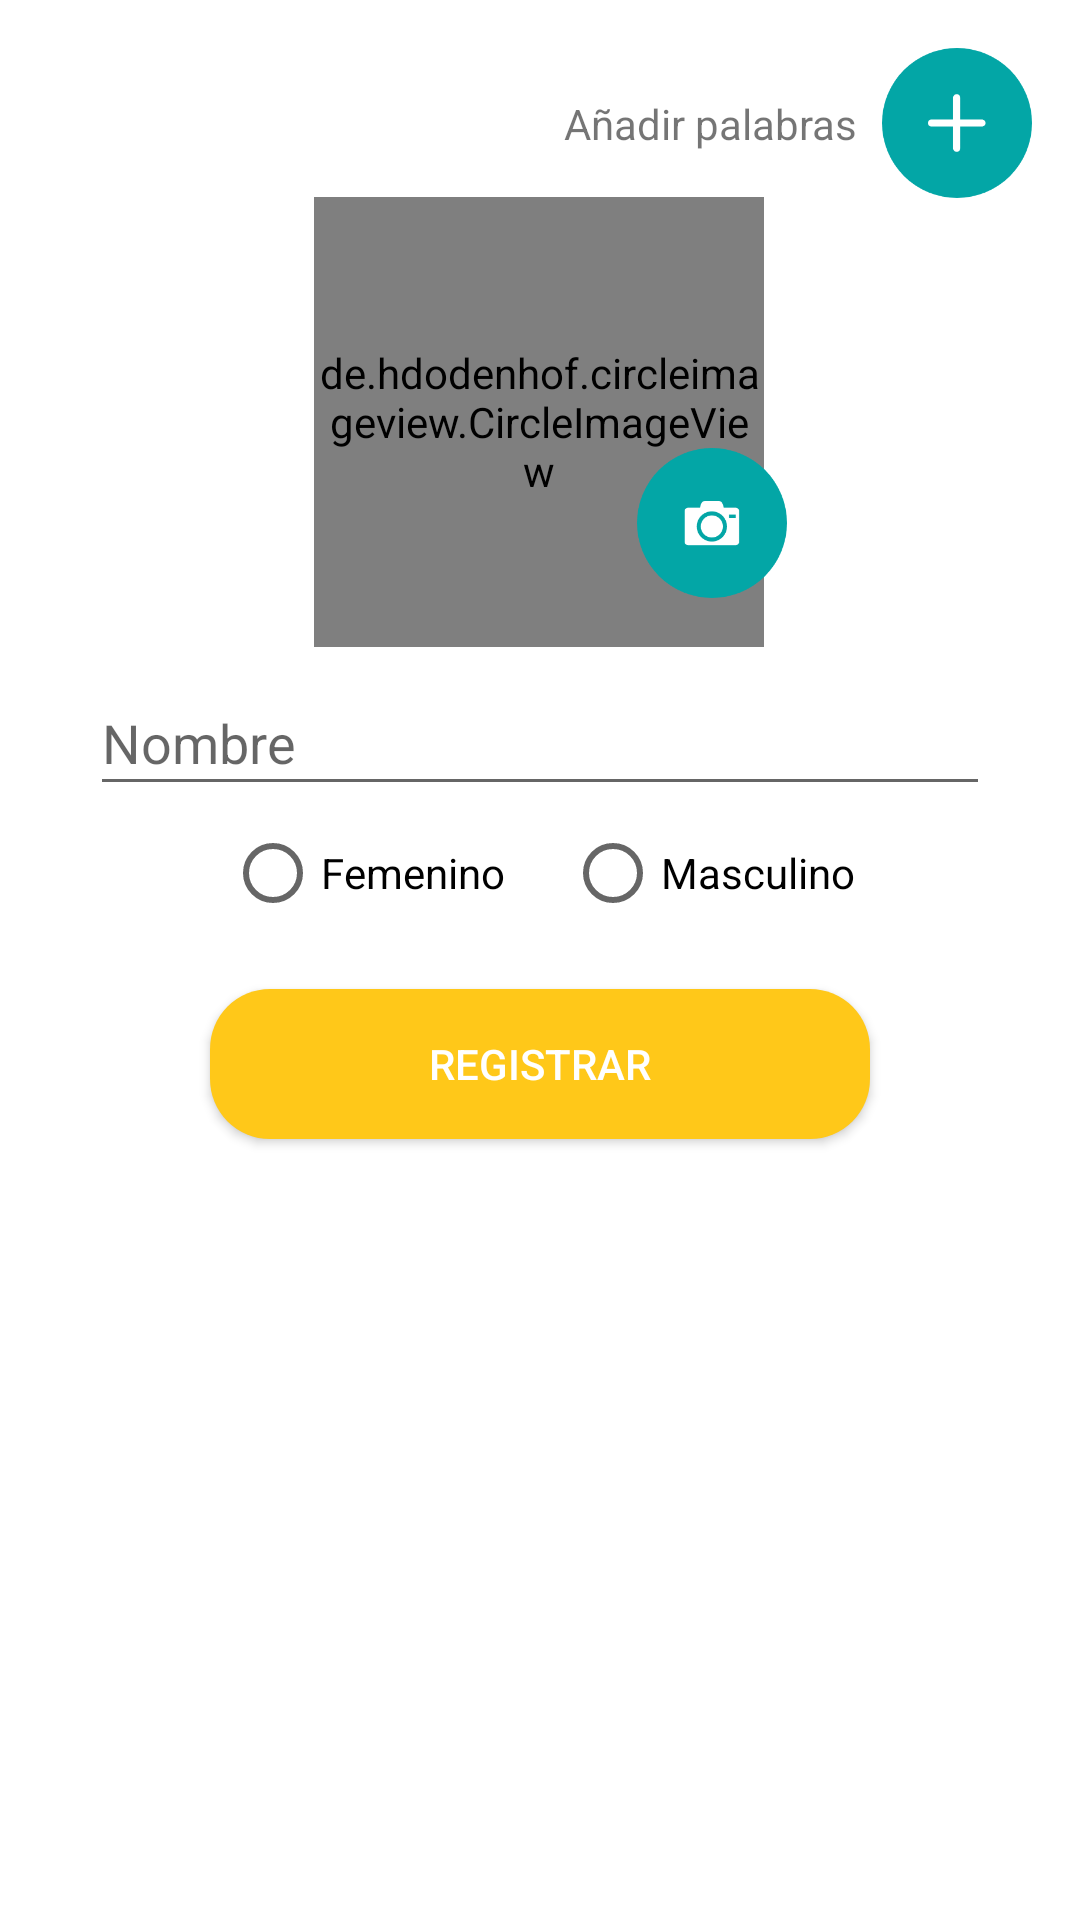

Icons on this 1080px×1920px Android screen, each with the point to tap as [x,y]:
add word: [957,123]
take: [712,523]
